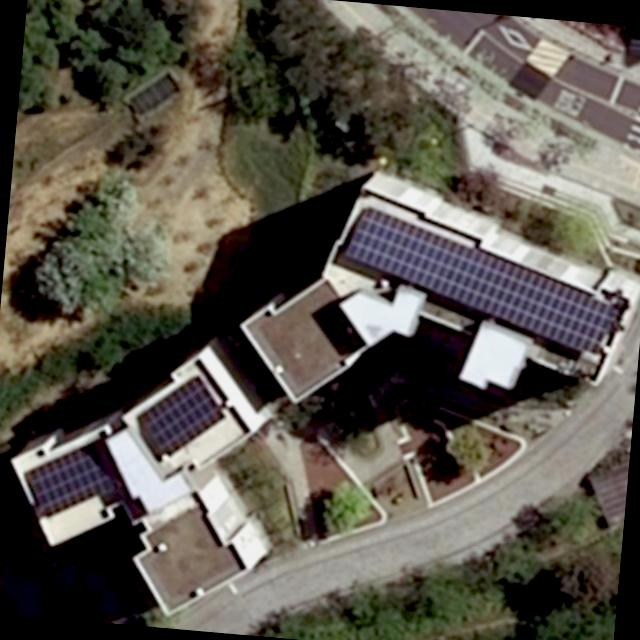solar: (334, 199, 632, 358), (136, 369, 232, 462), (27, 440, 118, 524)
